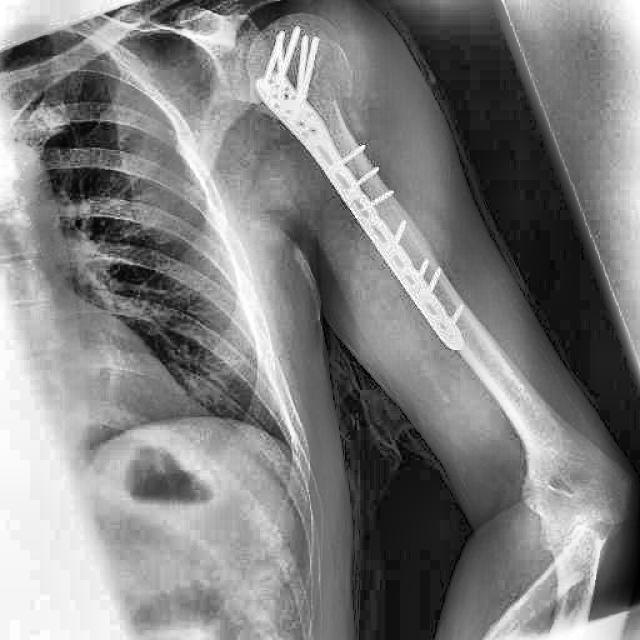humerus: (303, 69, 369, 133)
